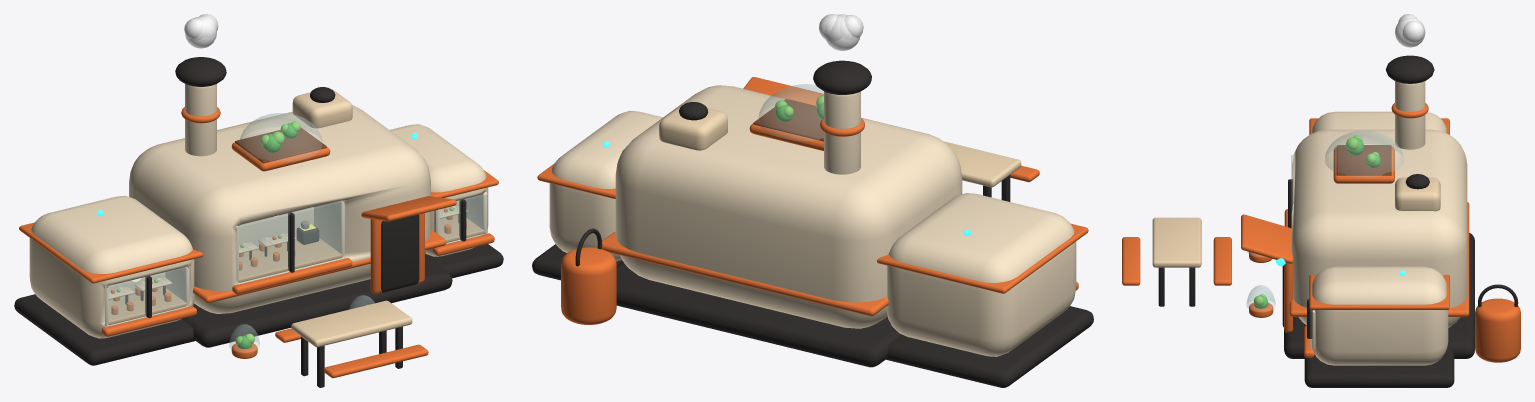
Rendered from kitchen-20.glb.
3 views of the same model, side by side, from view 1: azimuth 30°, elevation 25°; view 2: azimuth 150°, elevation 25°; view 3: azimuth 270°, elevation 25° (orthographic). The views are drawn at different scales.
Visible parts, largest first — view 1: Cube.001, Cube, Cube.011, Cube.012, Cube.006, Cube.002, Cube.003, Cube.050, Sphere.007, Sphere.002, Cylinder.022; view 2: Cube.001, Cube, Cube.012, Cube.006, Cube.011, Cube.050, Sphere.007; view 3: Cube.001, Cube.012, Cube, Cube.006, Cube.011, Cube.050, Sphere.007, Sphere.002.
Part boxes in pixels (x1=…): Cube.001: x1=29, y1=84, x2=488, y2=338; Cube: x1=14, y1=57, x2=503, y2=387; Cube.011: x1=106, y1=113, x2=487, y2=352; Cube.012: x1=19, y1=107, x2=498, y2=378; Cube.006: x1=108, y1=88, x2=467, y2=347; Cube.002: x1=104, y1=192, x2=487, y2=325; Cube.003: x1=108, y1=216, x2=484, y2=325; Cube.050: x1=235, y1=128, x2=326, y2=163; Sphere.007: x1=184, y1=14, x2=218, y2=48; Sphere.002: x1=116, y1=121, x2=453, y2=345; Cylinder.022: x1=237, y1=123, x2=297, y2=348; Cube.001: x1=549, y1=85, x2=1076, y2=356; Cube: x1=532, y1=60, x2=1093, y2=387; Cube.012: x1=537, y1=77, x2=1088, y2=324; Cube.006: x1=659, y1=103, x2=1021, y2=187; Cube.011: x1=758, y1=84, x2=823, y2=140; Cube.050: x1=753, y1=99, x2=823, y2=141; Sphere.007: x1=819, y1=14, x2=863, y2=50; Cube.001: x1=1291, y1=81, x2=1467, y2=365; Cube.012: x1=1122, y1=103, x2=1520, y2=362; Cube: x1=1158, y1=55, x2=1518, y2=387; Cube.006: x1=1152, y1=177, x2=1440, y2=267; Cube.011: x1=1246, y1=130, x2=1403, y2=349; Cube.050: x1=1336, y1=145, x2=1391, y2=175; Sphere.007: x1=1395, y1=14, x2=1425, y2=47; Sphere.002: x1=1254, y1=135, x2=1379, y2=306.
Bounding box in the file's own units: 2.98 × 1.86 × 2.61.
